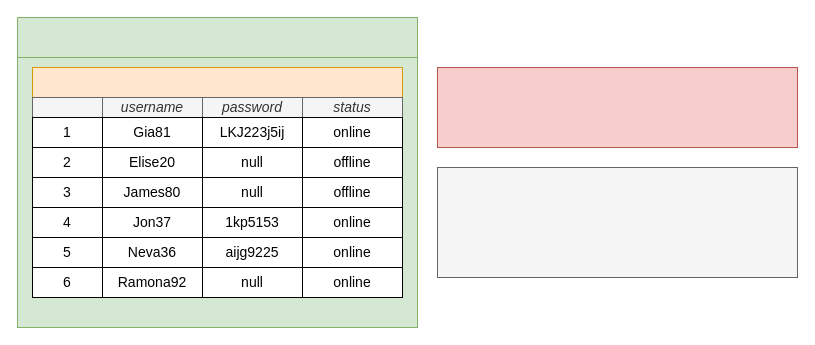
Some shapes in this 815 by 345 pixel diagram are drawn without their labels. Each missing label, with the centre of its shape:
id: the point at 67,107
instagram: the point at 217,37
Select the 3 users with the highest IDs from the users table: the point at 617,107
users: the point at 217,82
You could flip the order of the table using then limit the select to 3 rows: the point at 617,222
